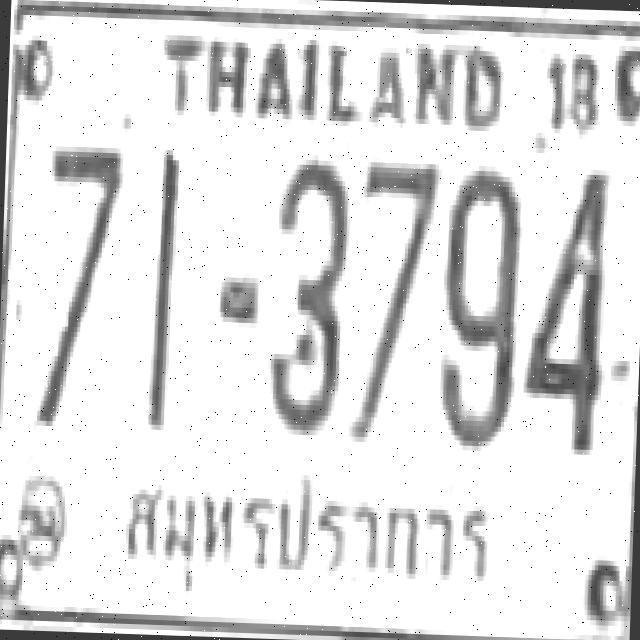1: (146, 146, 178, 428)
3: (264, 154, 348, 430)
4: (520, 162, 606, 450)
7: (348, 156, 436, 439), (36, 140, 120, 428), (41, 140, 121, 388)
9: (434, 159, 520, 442)
SamutPrakan: (114, 450, 501, 618)
